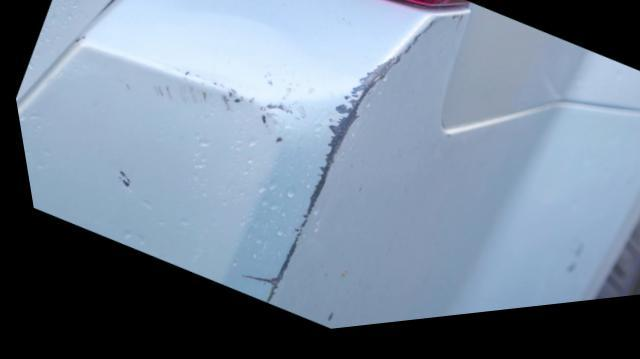scratch: (140, 27, 436, 309)
